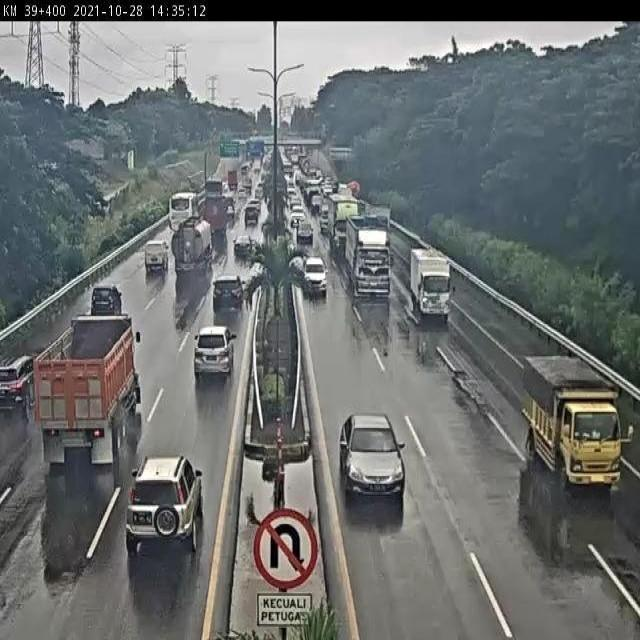Car: (123, 452, 201, 549), (341, 415, 406, 497), (194, 329, 235, 375), (0, 354, 30, 410)
Truck: (38, 315, 139, 470), (522, 353, 624, 487), (345, 215, 391, 302), (410, 247, 452, 319), (174, 215, 210, 278)
